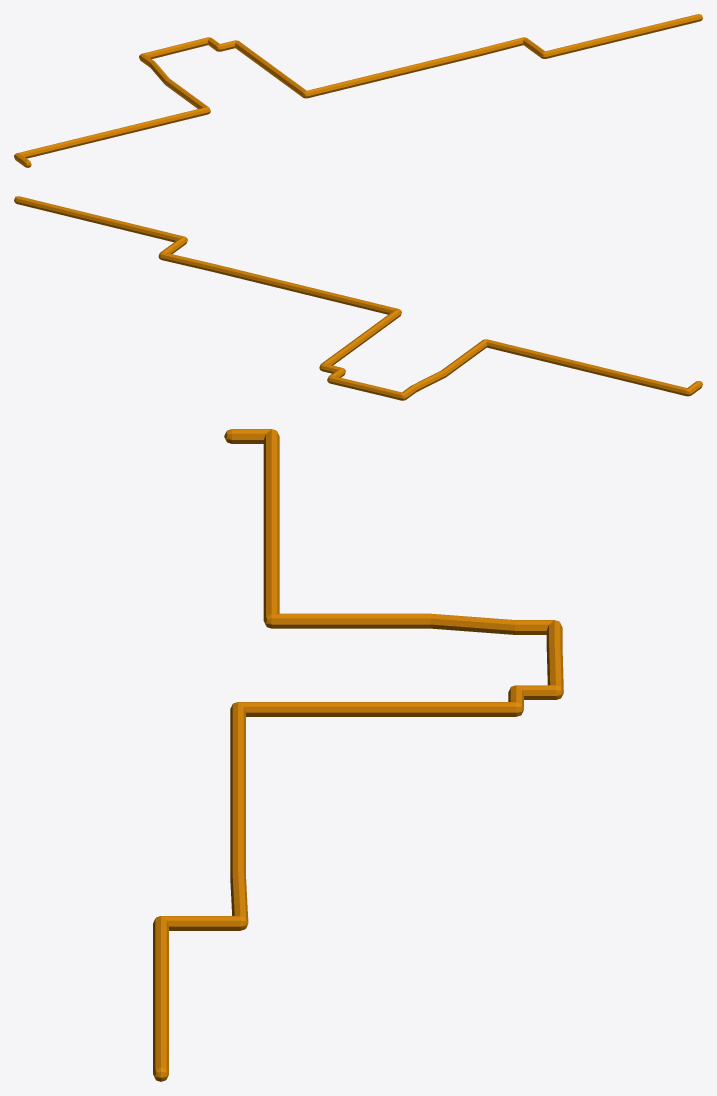
The picture shows the model from 3 angles, top to bottom: view 1: azimuth 30°, elevation 25°; view 2: azimuth 150°, elevation 25°; view 3: azimuth 270°, elevation 25°; orthographic projection. The views are drawn at different scales.
Bounding box in the file's own units: 1920 × 20 × 517.
